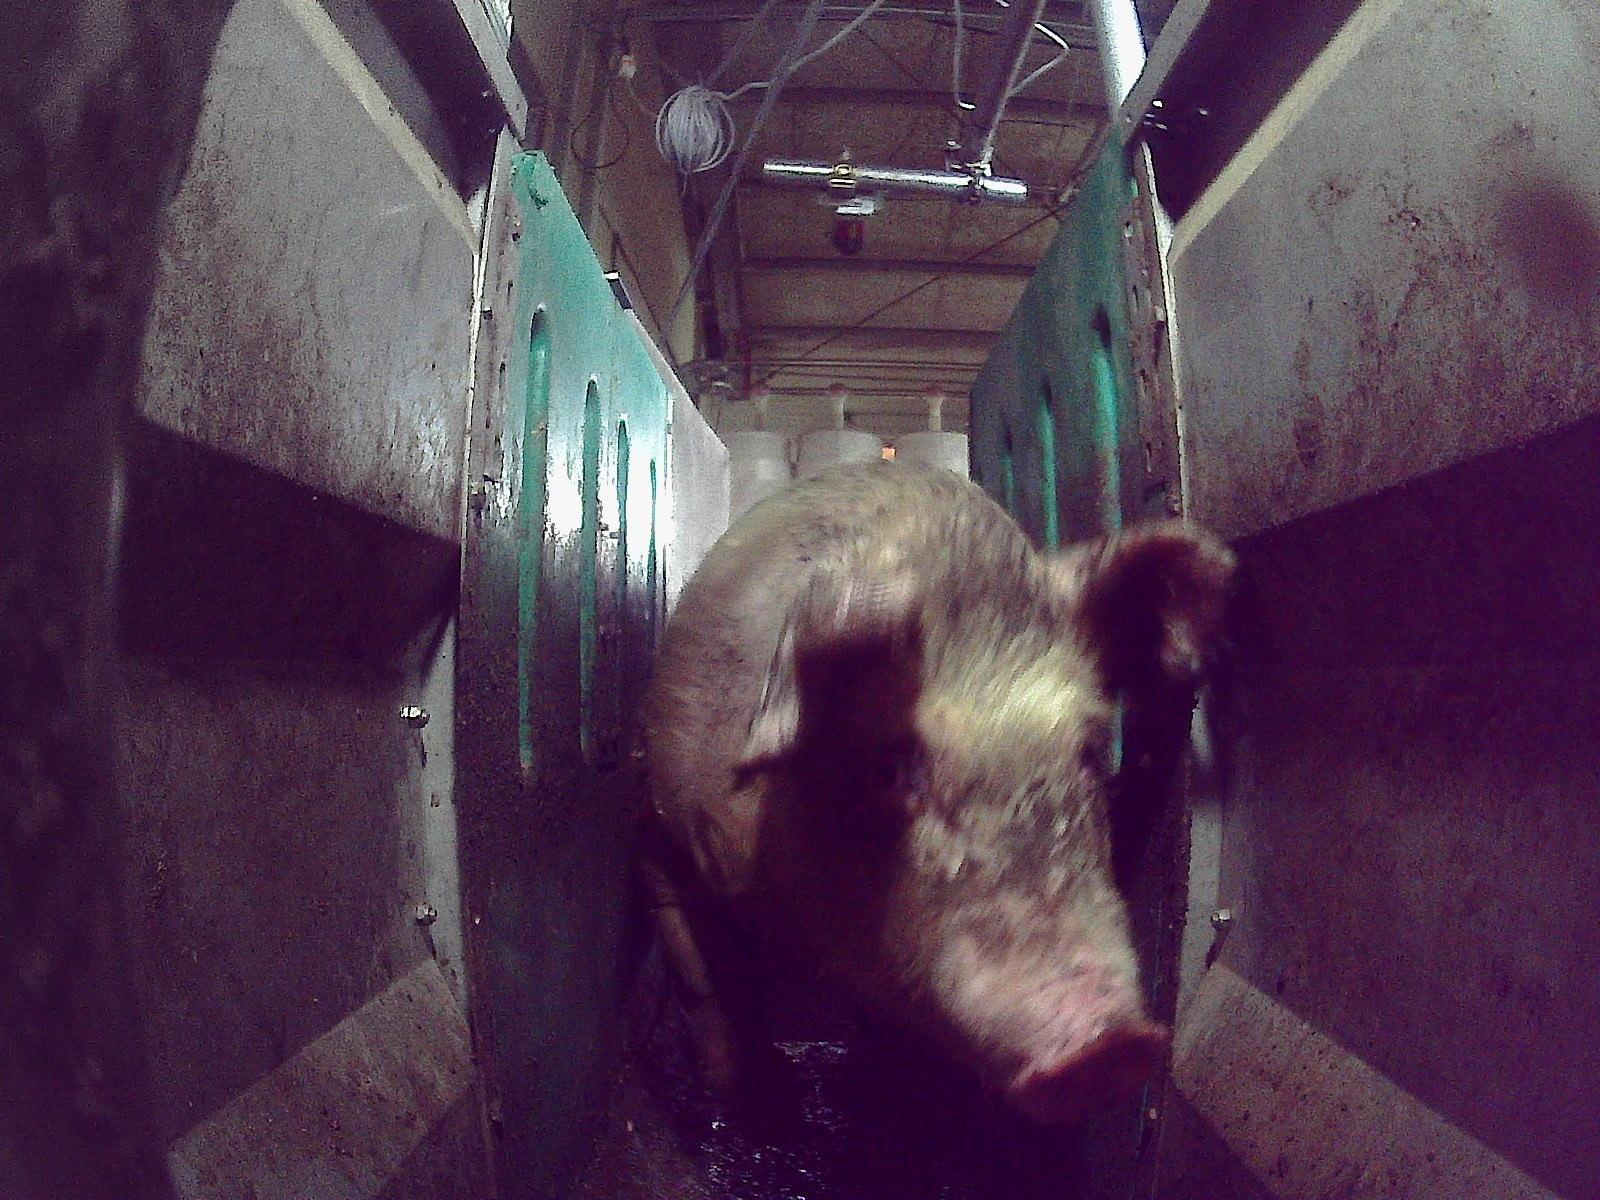Face: (785, 567, 1175, 1128)
